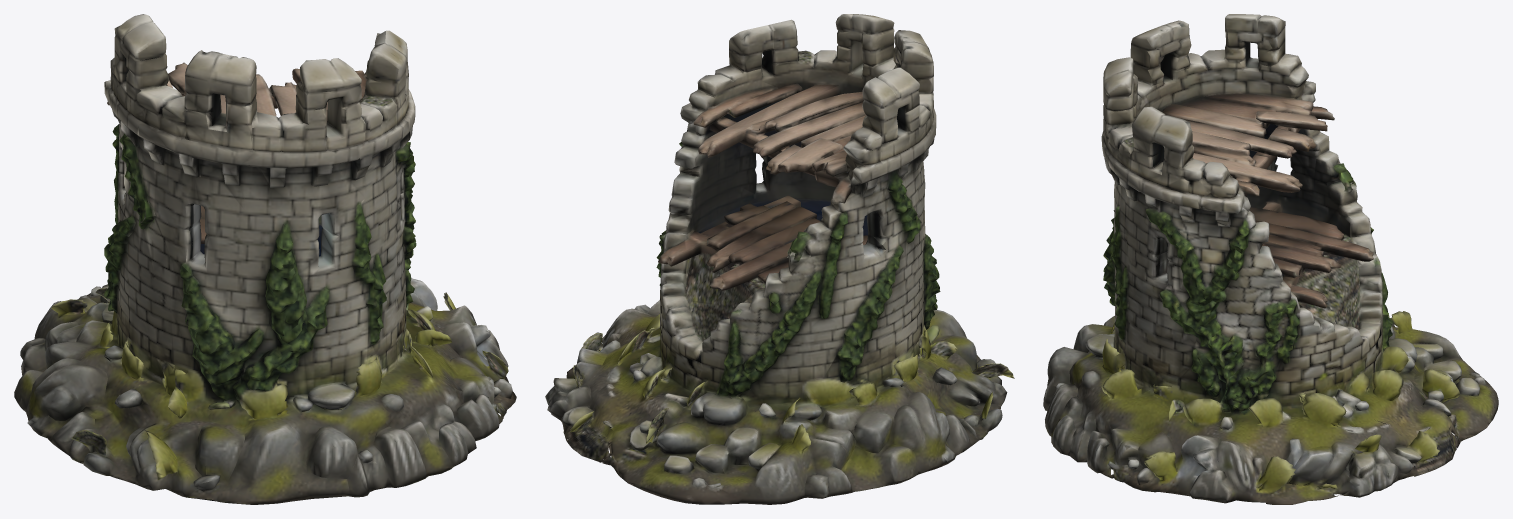
3 renders of one model, left to right at view 1: azimuth 30°, elevation 25°; view 2: azimuth 150°, elevation 25°; view 3: azimuth 270°, elevation 25°, orthographic. The views are drawn at different scales.
Parts seen in each view (by area): view 1: repaired; view 2: repaired; view 3: repaired.
Boxes of the visible parts, box(x1,y1,x2,y2) form: repaired: box(14, 14, 516, 504); repaired: box(545, 14, 1014, 504); repaired: box(1043, 14, 1498, 504).
Size of the model in its own units: 0.9533 by 0.8554 by 0.9998.
1 material, 1 textured.
